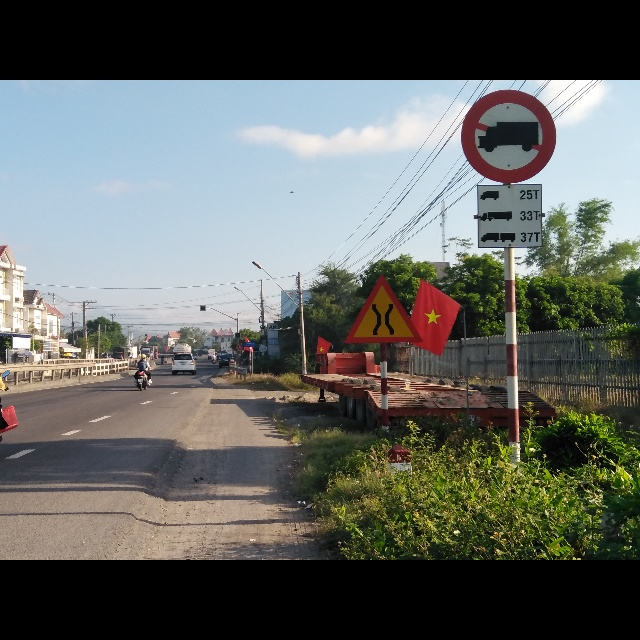Cấm xe tải: (461, 92, 557, 183)
Cầu hẹp: (343, 272, 424, 347)
